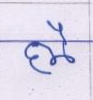ai_matra: (47, 21, 69, 40)
